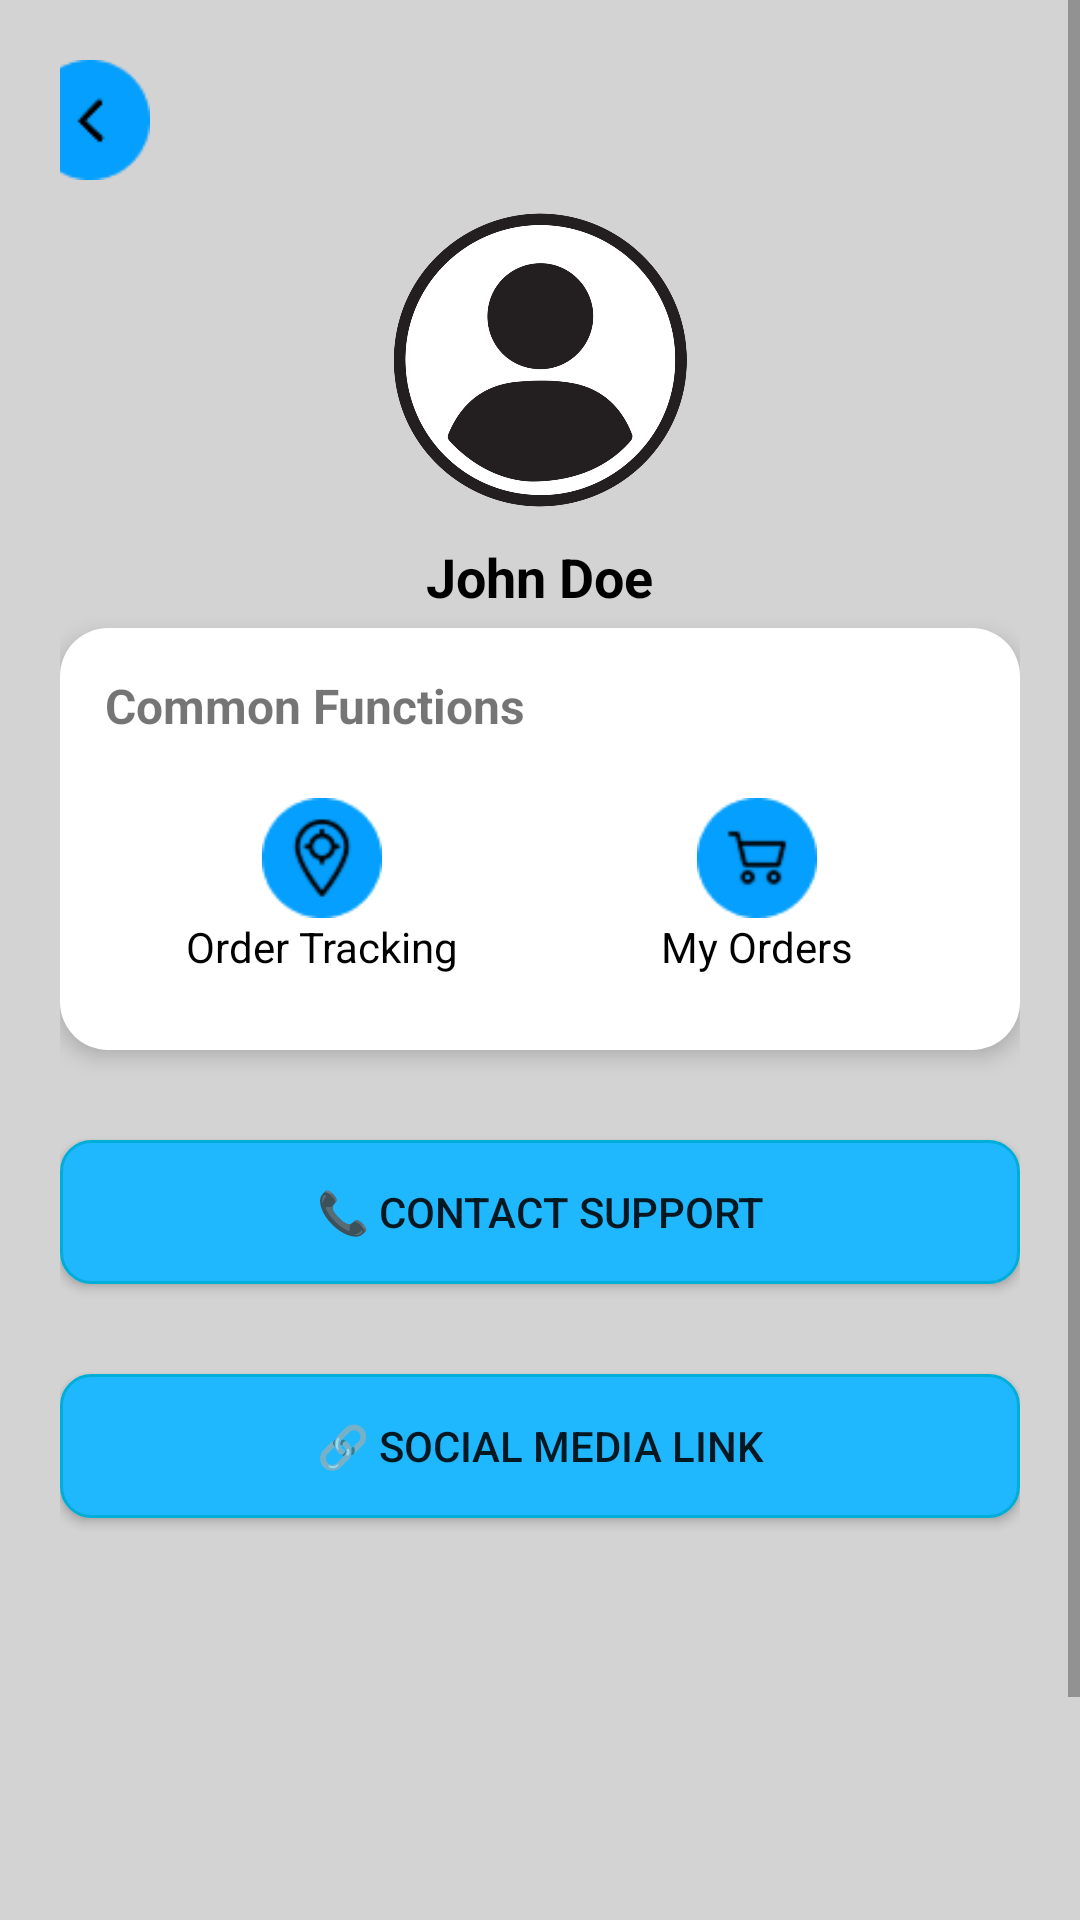

Icons on this 1080px×1920px Android screen, each with the point to tap as point (x, y):
back: point (105, 120)
cart: point (757, 858)
user: point (540, 360)
